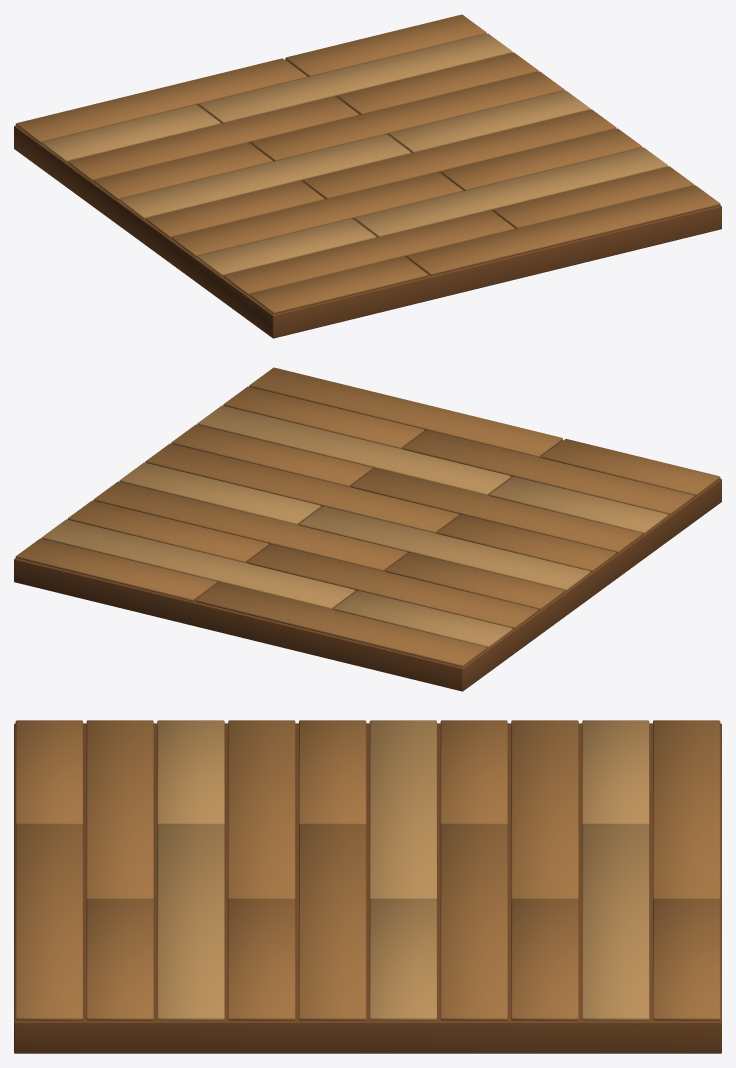
Rendered from floor_wood.glb.
The picture shows the model from 3 angles, top to bottom: view 1: azimuth 30°, elevation 25°; view 2: azimuth 150°, elevation 25°; view 3: azimuth 270°, elevation 25°; orthographic projection. The views are drawn at different scales.
Visible parts, largest first — view 1: floor_wood; view 2: floor_wood; view 3: floor_wood.
Boxes of the visible parts, <box> form: floor_wood: <box>14,14,721,338</box>; floor_wood: <box>14,367,721,691</box>; floor_wood: <box>14,720,721,1053</box>.
Size of the model in its own units: 2 by 0.112 by 2.
